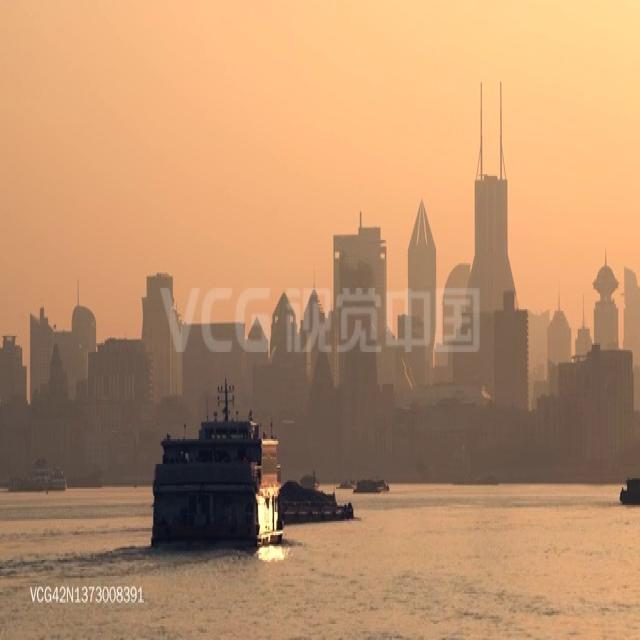cargoship: (276, 474, 357, 526), (354, 472, 386, 495), (619, 473, 640, 507), (301, 469, 320, 486), (338, 472, 354, 490)
passenger ship: (145, 384, 284, 552), (6, 449, 68, 495)
